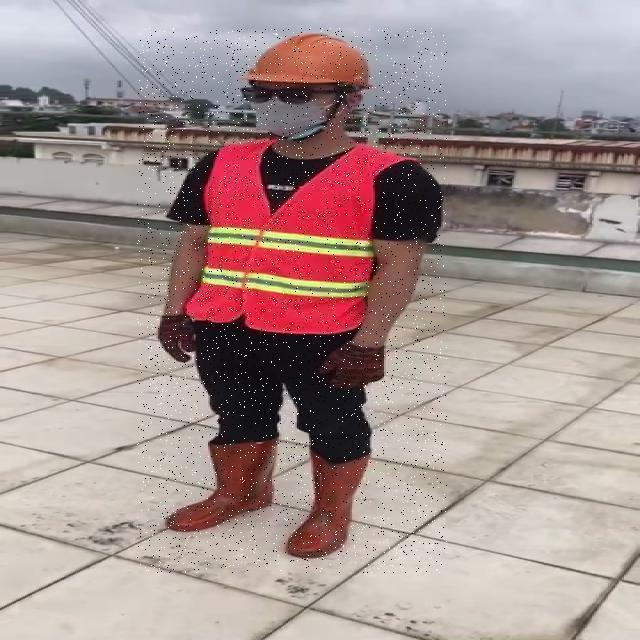helmet: (244, 30, 380, 88)
safety_vest: (186, 147, 378, 334)
